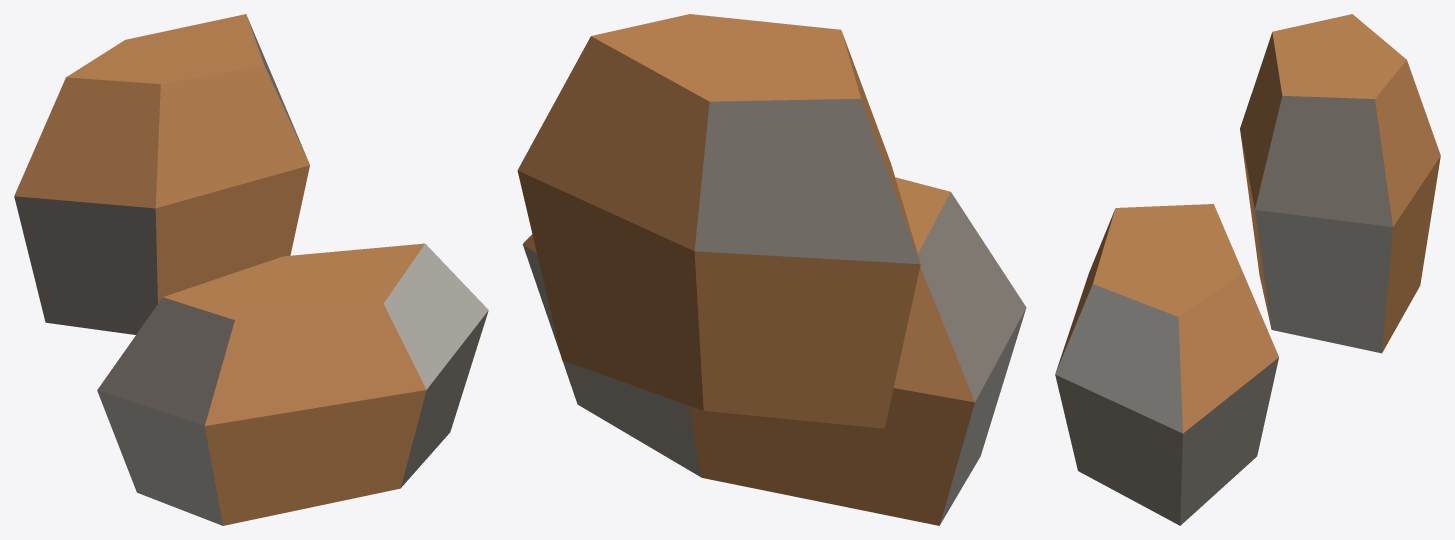
3 renders of one model, left to right at view 1: azimuth 30°, elevation 25°; view 2: azimuth 150°, elevation 25°; view 3: azimuth 270°, elevation 25°, orthographic. The views are drawn at different scales.
Parts seen in each view (by area): view 1: Iron_Deposit; view 2: Iron_Deposit; view 3: Iron_Deposit.
Boxes of the visible parts, left/top/right/bottom form: Iron_Deposit: left=14, top=14, right=488, bottom=525; Iron_Deposit: left=517, top=14, right=1026, bottom=525; Iron_Deposit: left=1055, top=14, right=1440, bottom=525.
Bounding box in the file's own units: 0.849 × 0.7939 × 0.7316.
